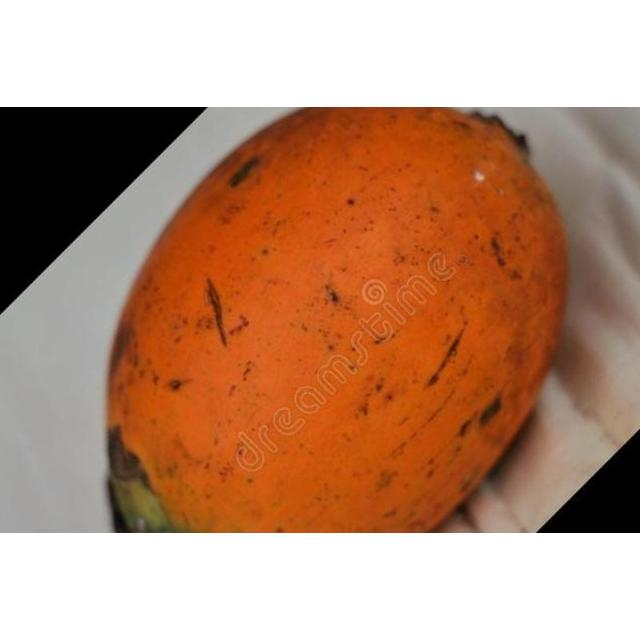good: (102, 107, 570, 533)
